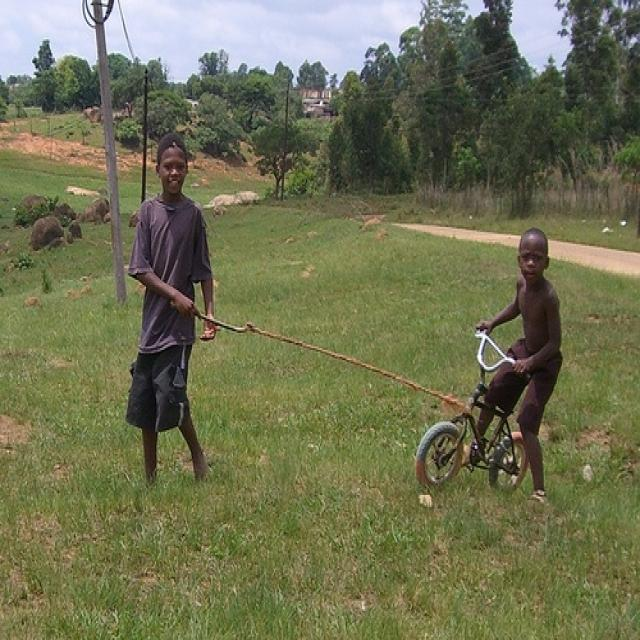bicycle: (414, 322, 534, 492)
